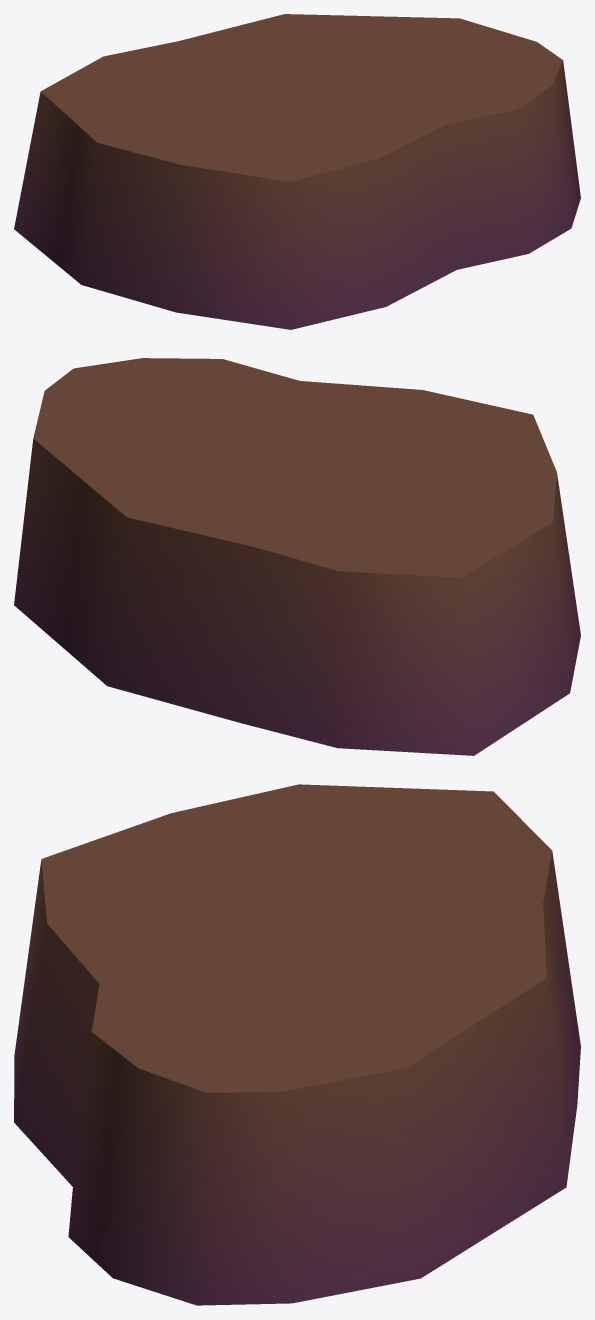
3 views of the same model, one above another, from view 1: azimuth 30°, elevation 25°; view 2: azimuth 150°, elevation 25°; view 3: azimuth 270°, elevation 25° (orthographic). The views are drawn at different scales.
Visible parts, largest first — view 1: Cube.099; view 2: Cube.099; view 3: Cube.099.
Part boxes in pixels (x1,y1,x2,y2): Cube.099: (14, 14, 580, 329); Cube.099: (14, 358, 580, 755); Cube.099: (14, 784, 580, 1305).
Bounding box in the file's own units: 16.35 × 4.69 × 11.89.
